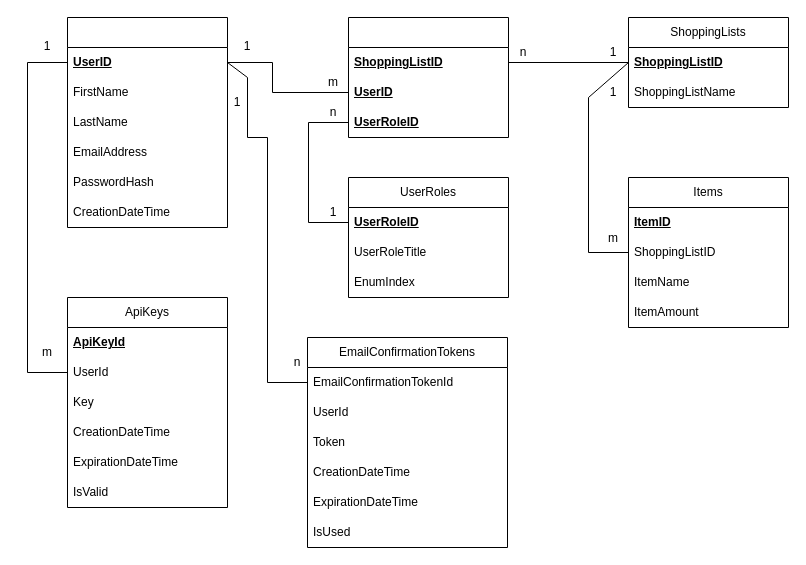
This 806x565 diagram has some shape labels left out. Here are the shapes that lost their labels. From the top down, the box of each, then its label:
(348, 16, 508, 138): ListMemberships
(66, 16, 228, 228): ListUsers
